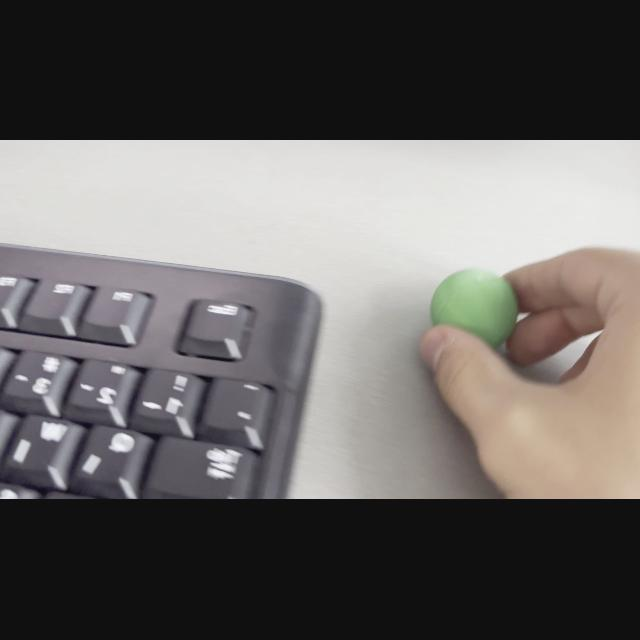objects: (427, 261, 521, 349)
